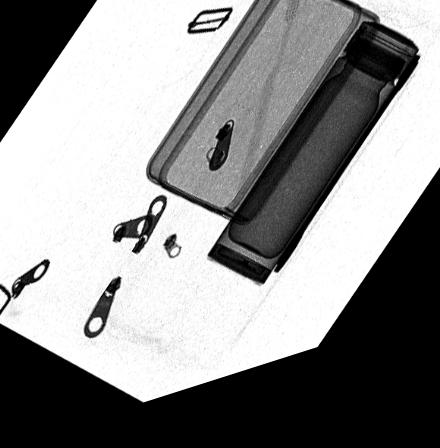Wrench: (269, 78, 421, 293)
